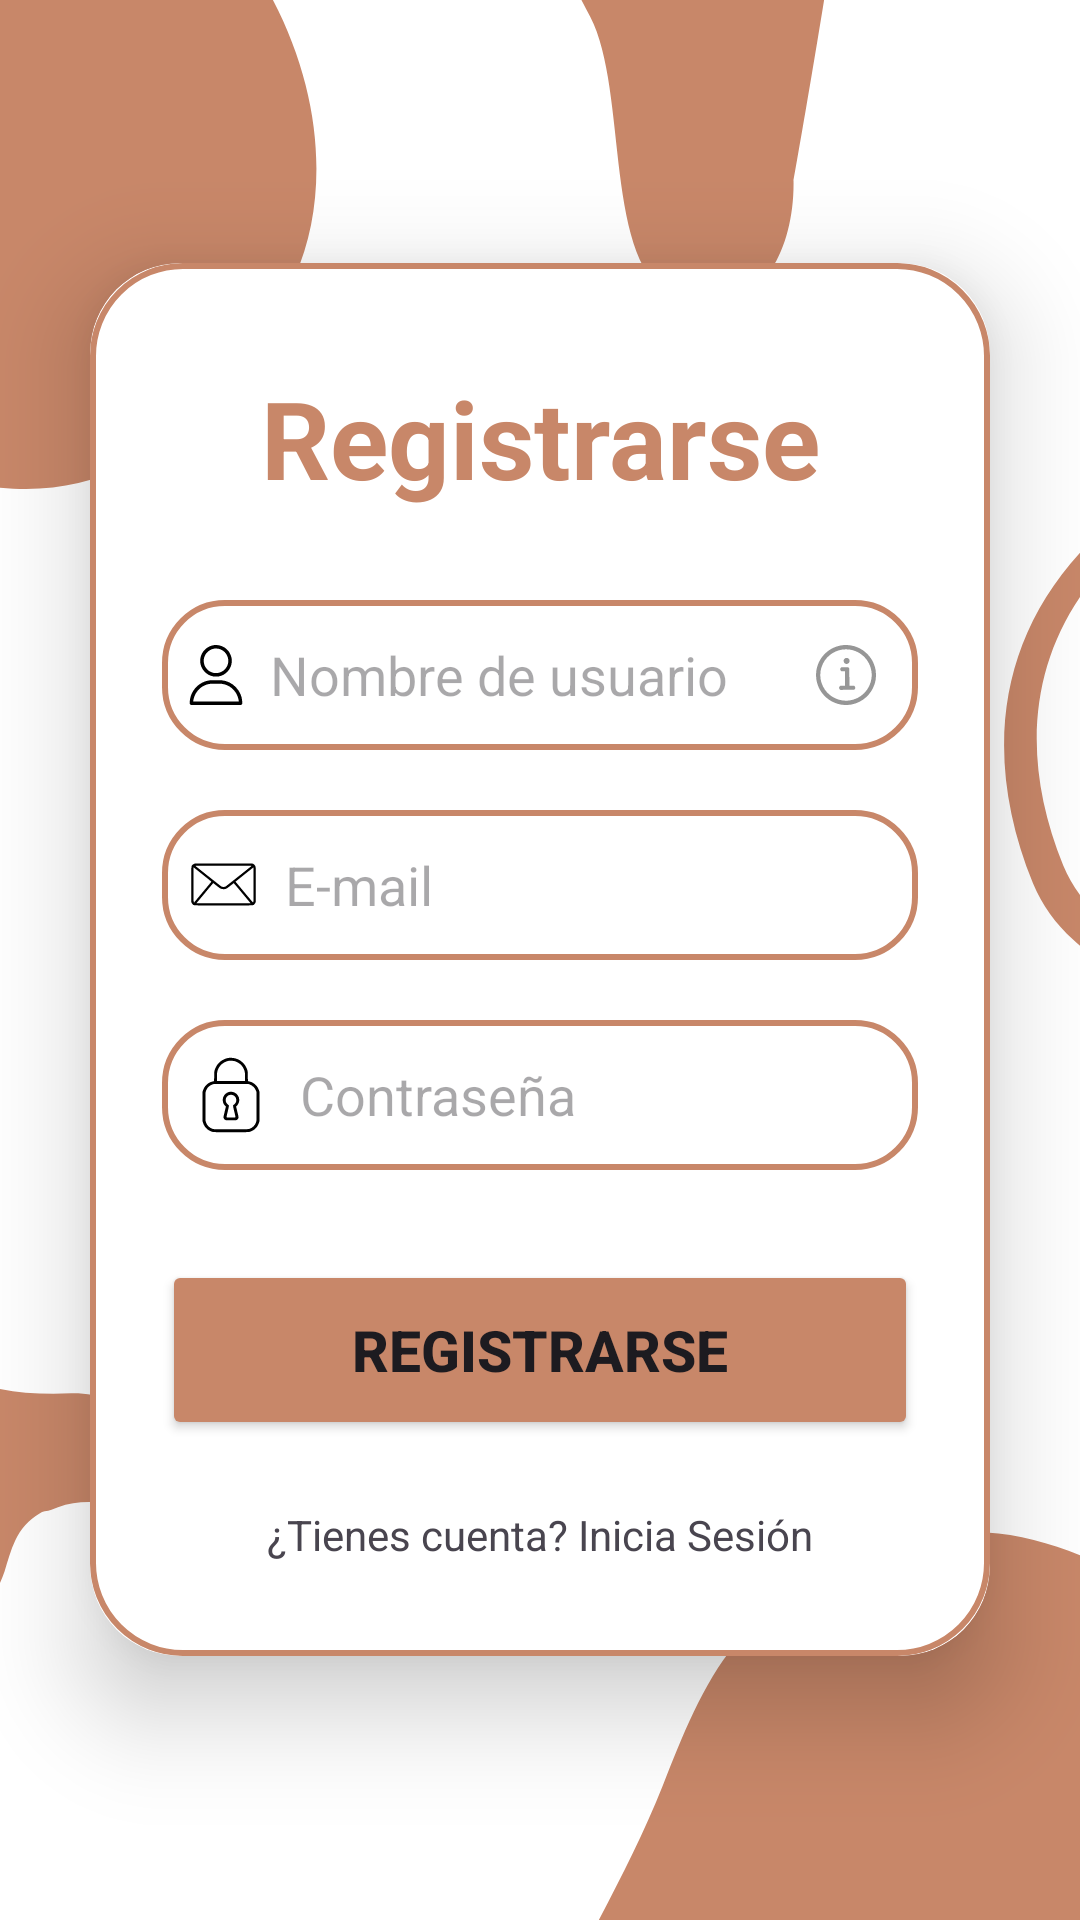

Named icons in this screenshot (1080 x 1920) and their centers, [x,y]:
information: [846,675]
